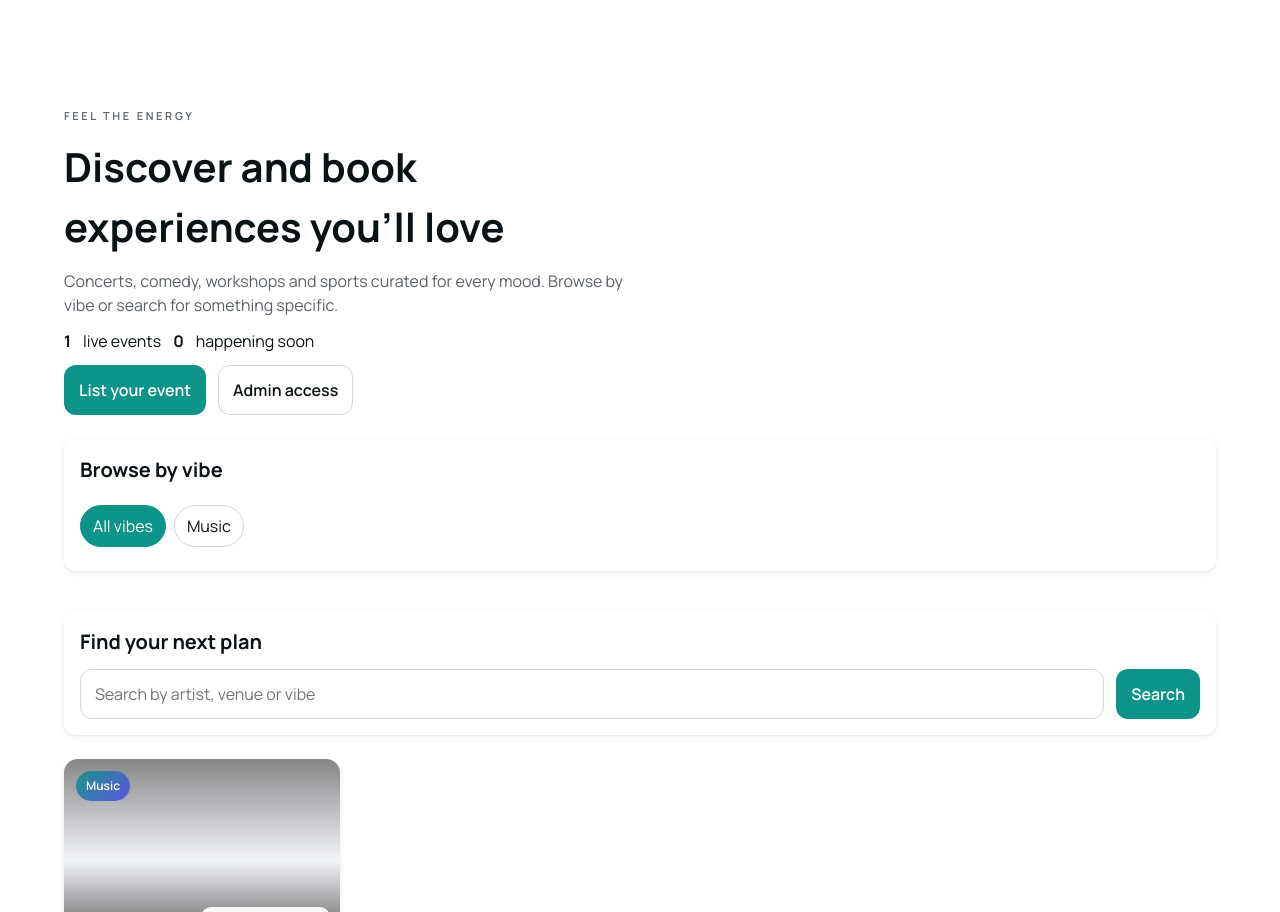
Test case: routes/Home › filters by category and runs a debounced search
Note: Click on the "Music" category chip
Step 1. Click the button "Music" → (209, 526), box [174, 504, 244, 546]
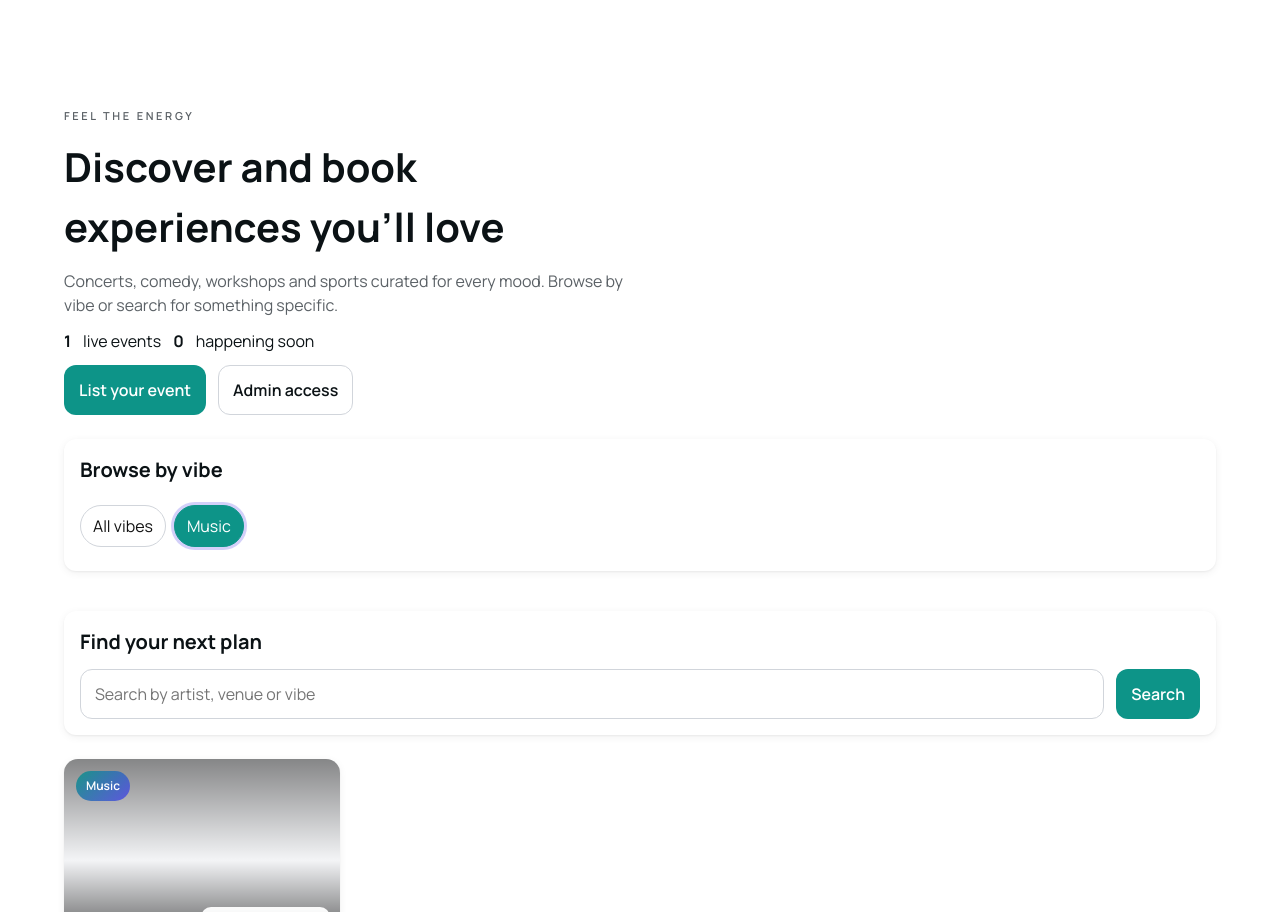
Now the button "Music" is pressed, box [174, 504, 244, 546]
Note: Type in the search box and wait for search to be called
Step 2. Type "Jazz" into the field with placeholder "Search by artist, venue or vibe" → (592, 694), box [80, 668, 1104, 718]
(page scrolled)
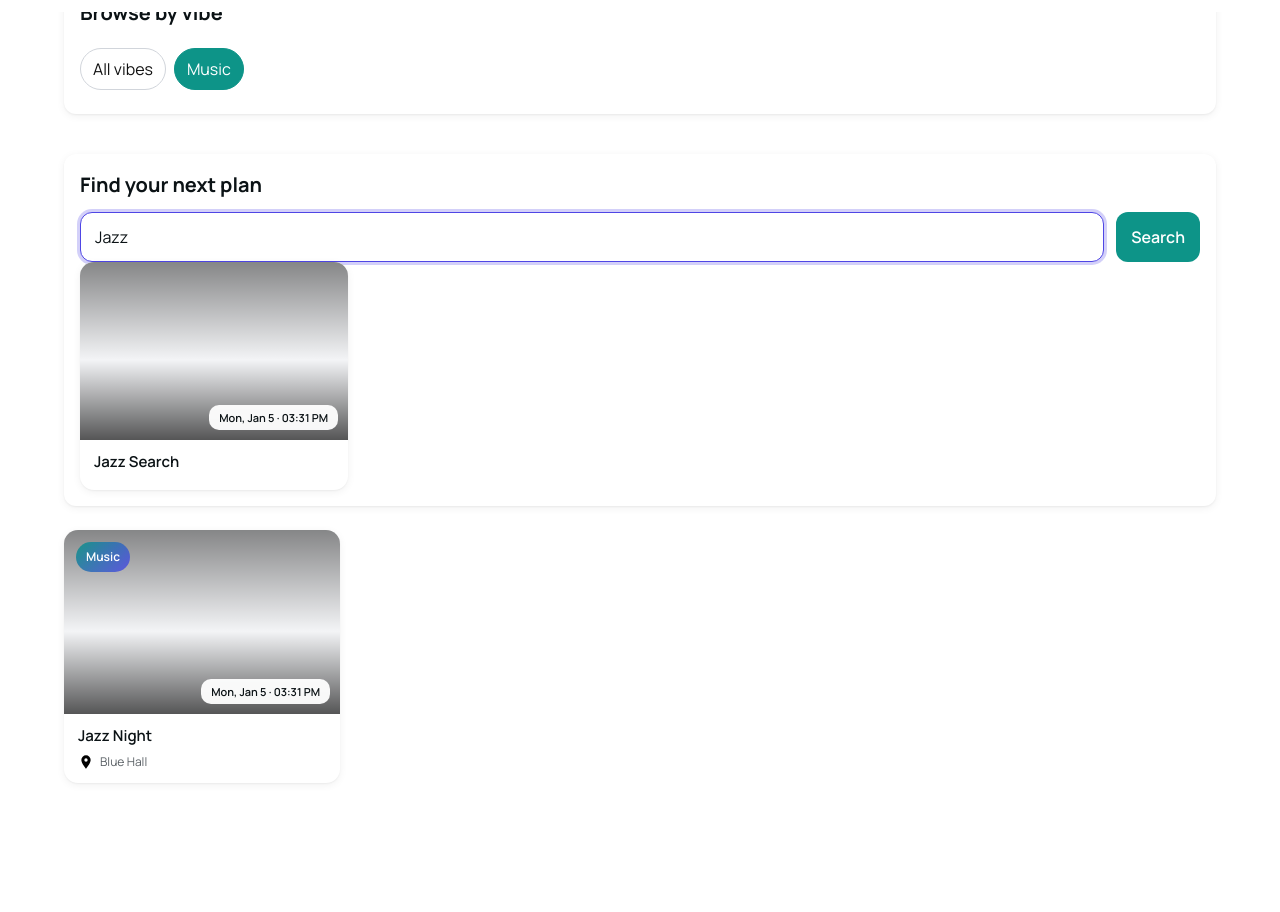
Now the heading "Jazz Search" is shown, box [94, 451, 179, 472]
